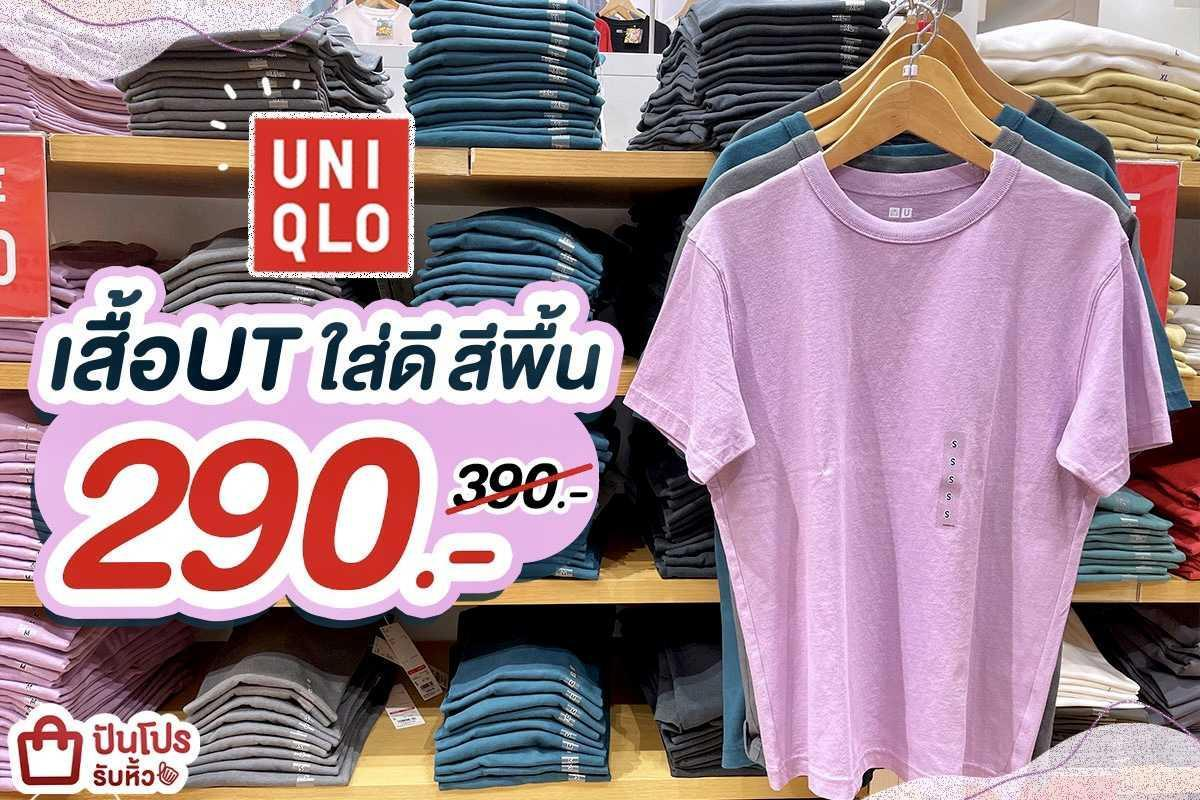Tshirt: (618, 161, 1176, 793)
